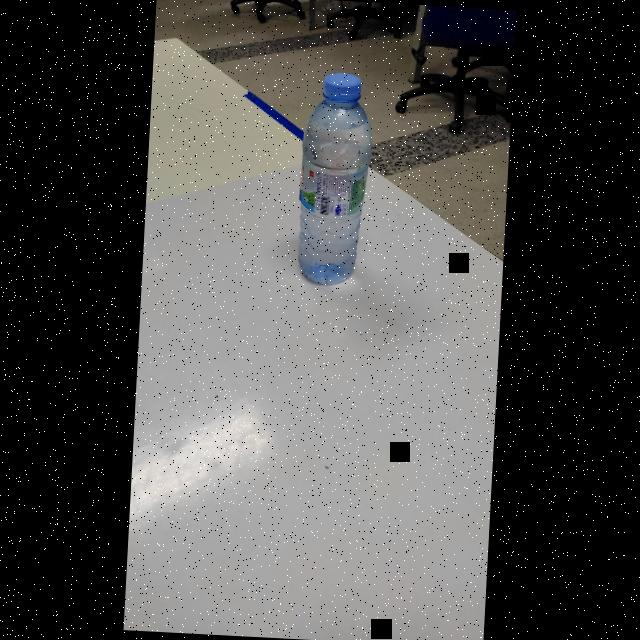plastic_bottle: (289, 63, 378, 290)
plastic_bottle_cap: (324, 69, 365, 103)
